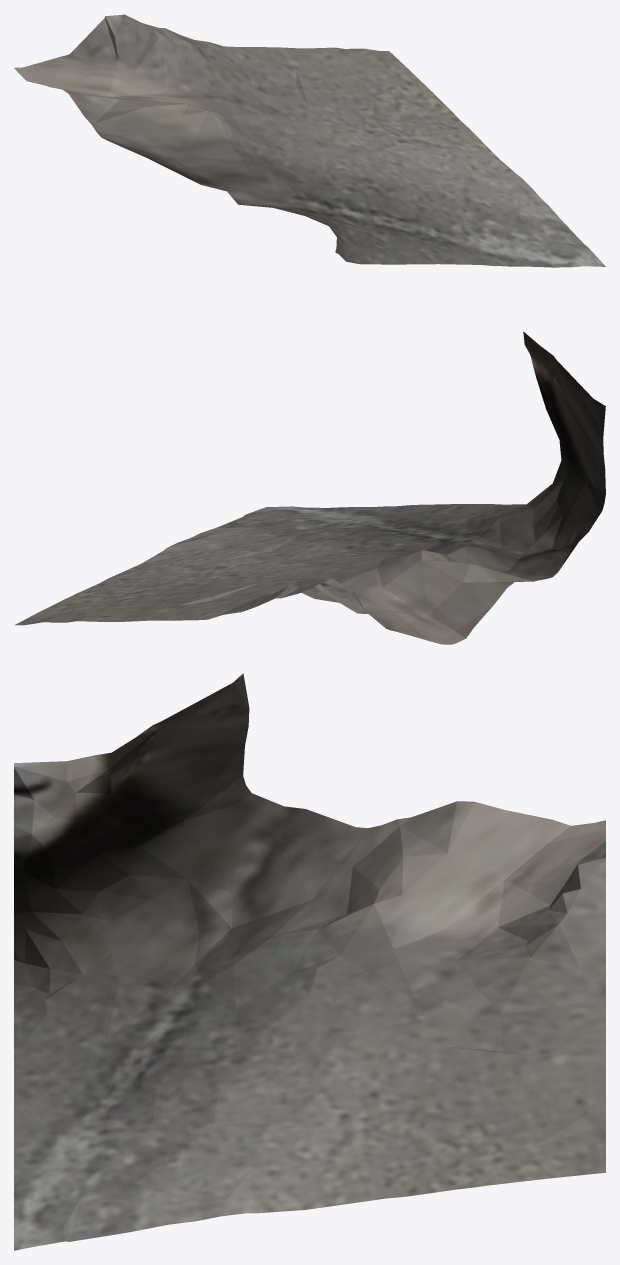
3 renders of one model, top to bottom at view 1: azimuth 30°, elevation 25°; view 2: azimuth 150°, elevation 25°; view 3: azimuth 270°, elevation 25°, orthographic. The views are drawn at different scales.
Bounding box in the file's own units: 1.67 × 1.02 × 1.67.
3 materials, 3 textured.
